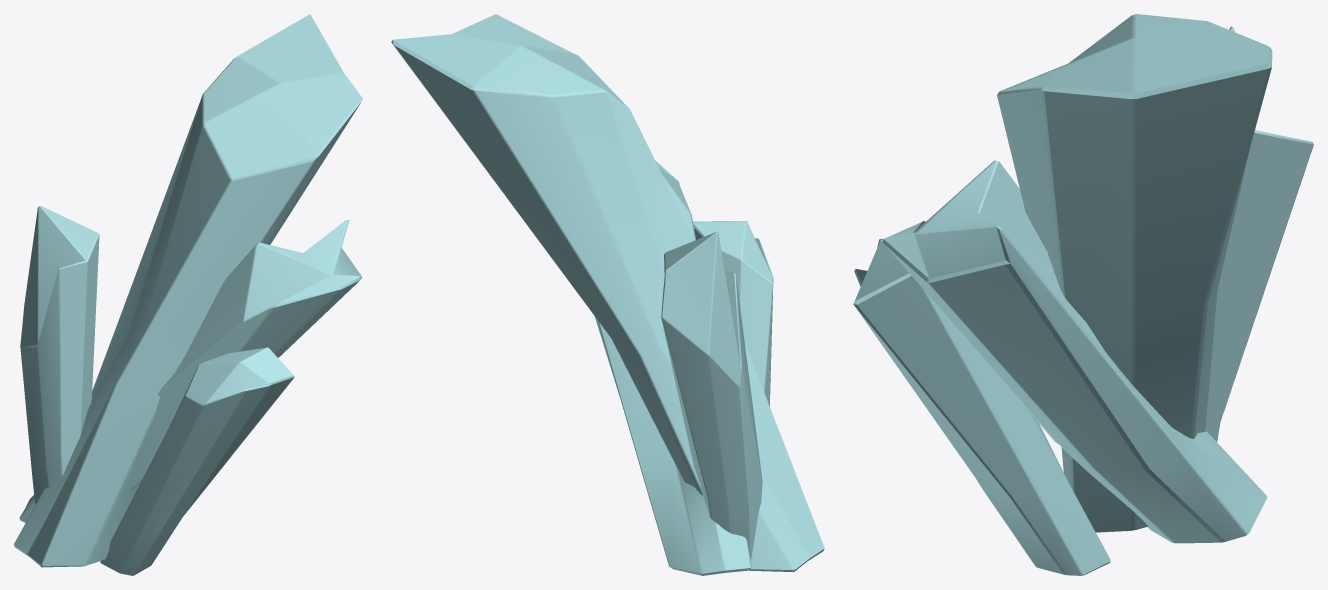
Rendered from Ice_08.fbx.
3 views of the same model, side by side, from view 1: azimuth 30°, elevation 25°; view 2: azimuth 150°, elevation 25°; view 3: azimuth 270°, elevation 25° (orthographic). The views are drawn at different scales.
Visible parts, largest first — view 1: Ice_09; view 2: Ice_09; view 3: Ice_09.
Boxes of the visible parts, left/top/right/bottom form: Ice_09: left=14, top=14, right=362, bottom=575; Ice_09: left=391, top=14, right=824, bottom=575; Ice_09: left=853, top=14, right=1313, bottom=575.
Bounding box in the file's own units: 553 × 708 × 429.
